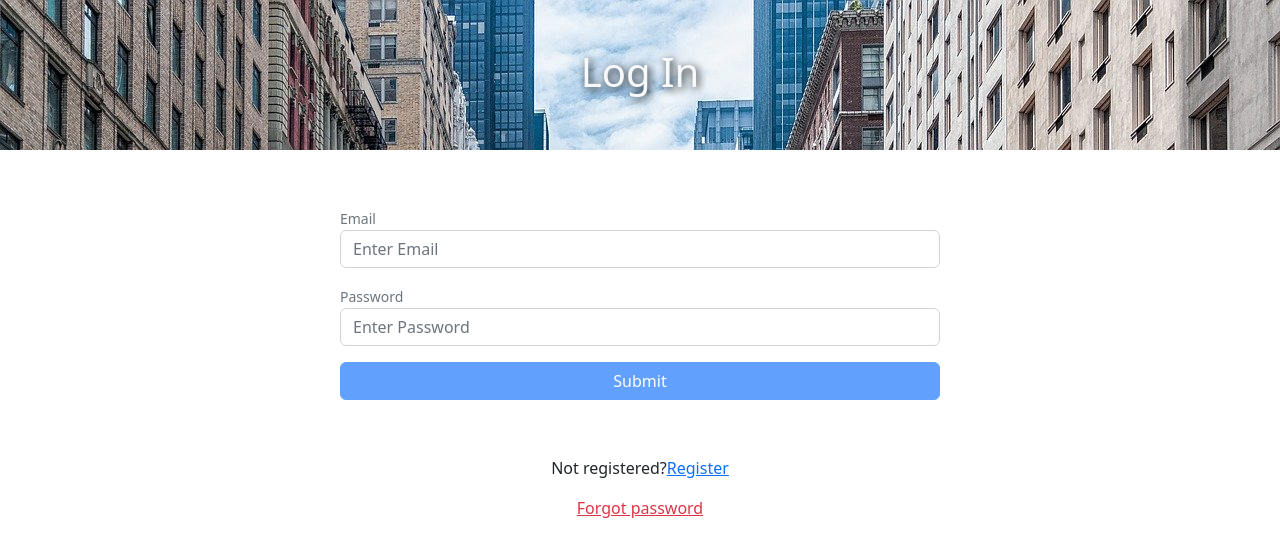
it: Login Interactions › enables button when email and password inputs are filled
This screenshot has width=1280, height=535.
Type "user@mail.com" into the field with placeholder "Enter Email" at (640, 249), box [340,230,940,268]
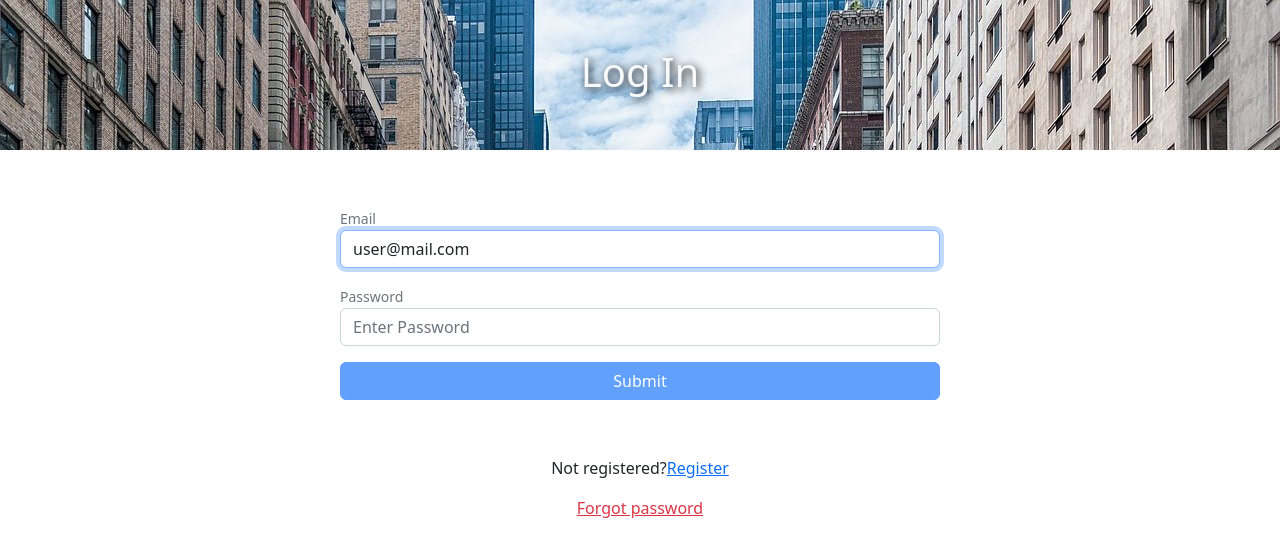
Type "123456" into the password field with placeholder "Enter Password" at (640, 327), box [340,308,940,346]
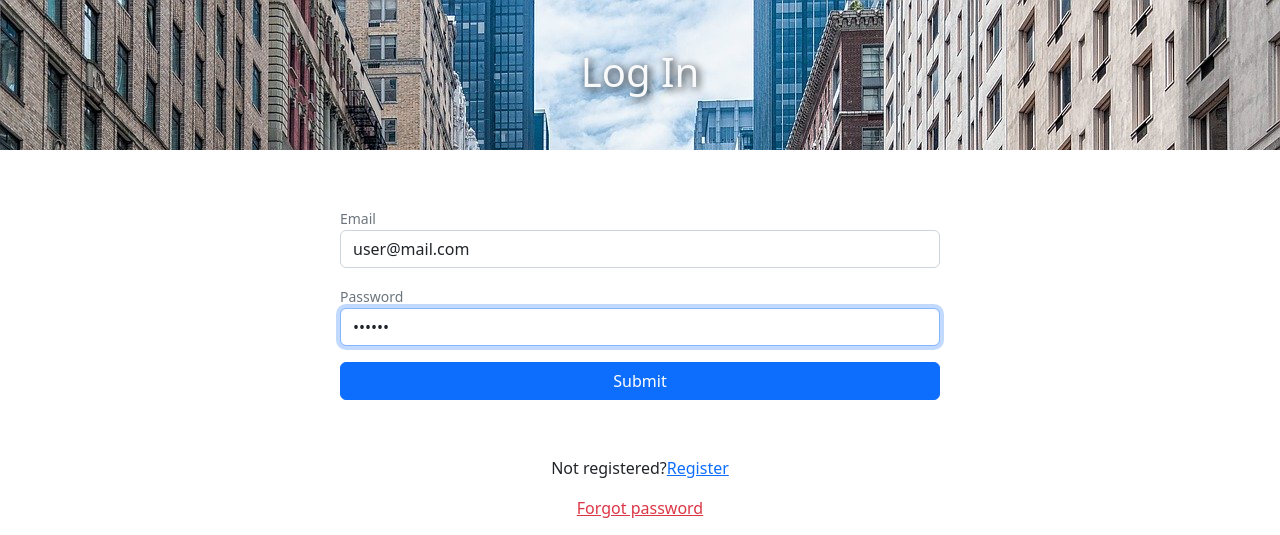
Now the button "Submit" is enabled, box [340,362,940,400]
